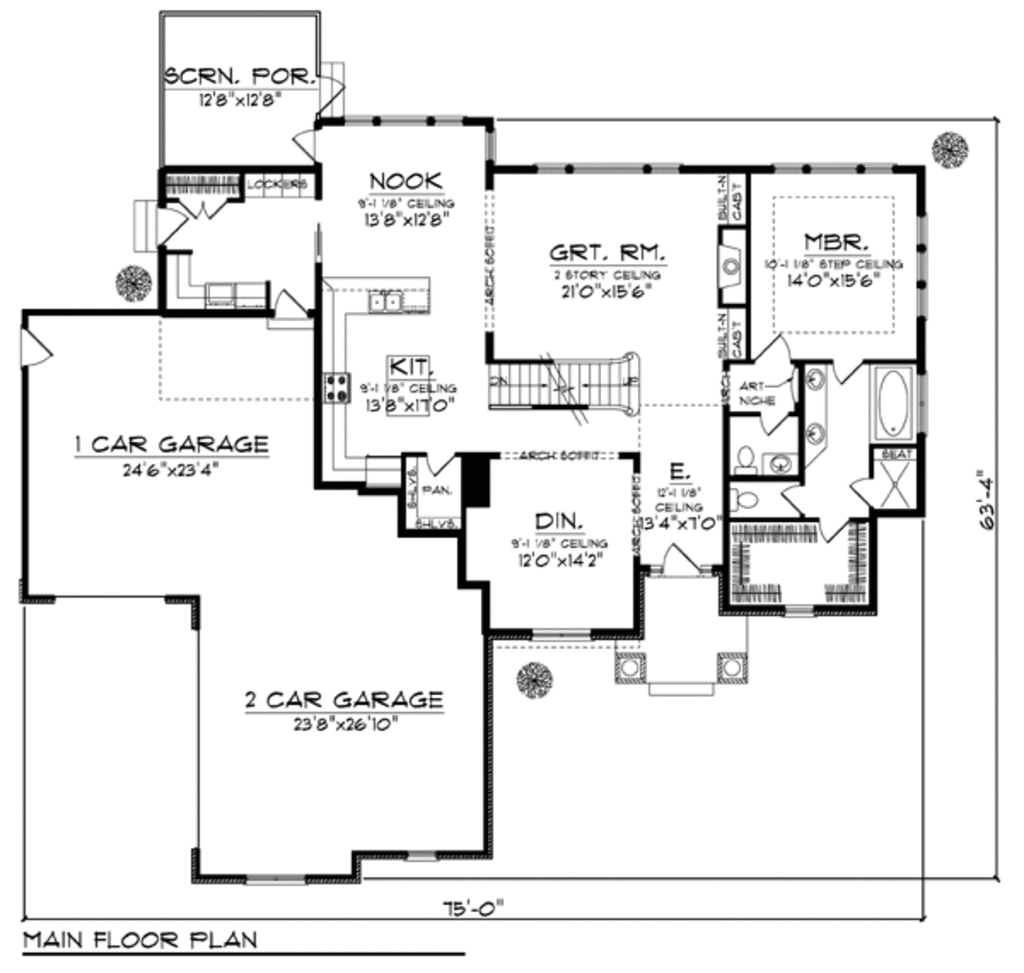door: (13, 319, 54, 376), (647, 534, 701, 576), (771, 479, 818, 519), (806, 514, 856, 551), (273, 282, 310, 328), (171, 195, 229, 223), (757, 322, 794, 364), (157, 208, 192, 251), (754, 404, 788, 440), (835, 358, 868, 393), (850, 473, 879, 510), (316, 79, 347, 110), (426, 448, 456, 479), (292, 131, 315, 160)
kitchen_bar: (379, 348, 444, 420)
large_sink: (727, 476, 760, 519), (724, 437, 757, 478)
small_sink: (803, 363, 833, 466), (768, 454, 798, 484)
stairs: (477, 351, 645, 419)
tub: (866, 358, 916, 443)
twin_sink: (357, 281, 409, 320)
window: (341, 102, 469, 132), (544, 158, 686, 181), (769, 155, 892, 181), (915, 210, 936, 323), (245, 866, 307, 893), (533, 622, 601, 646), (404, 843, 441, 869), (789, 605, 824, 617)
